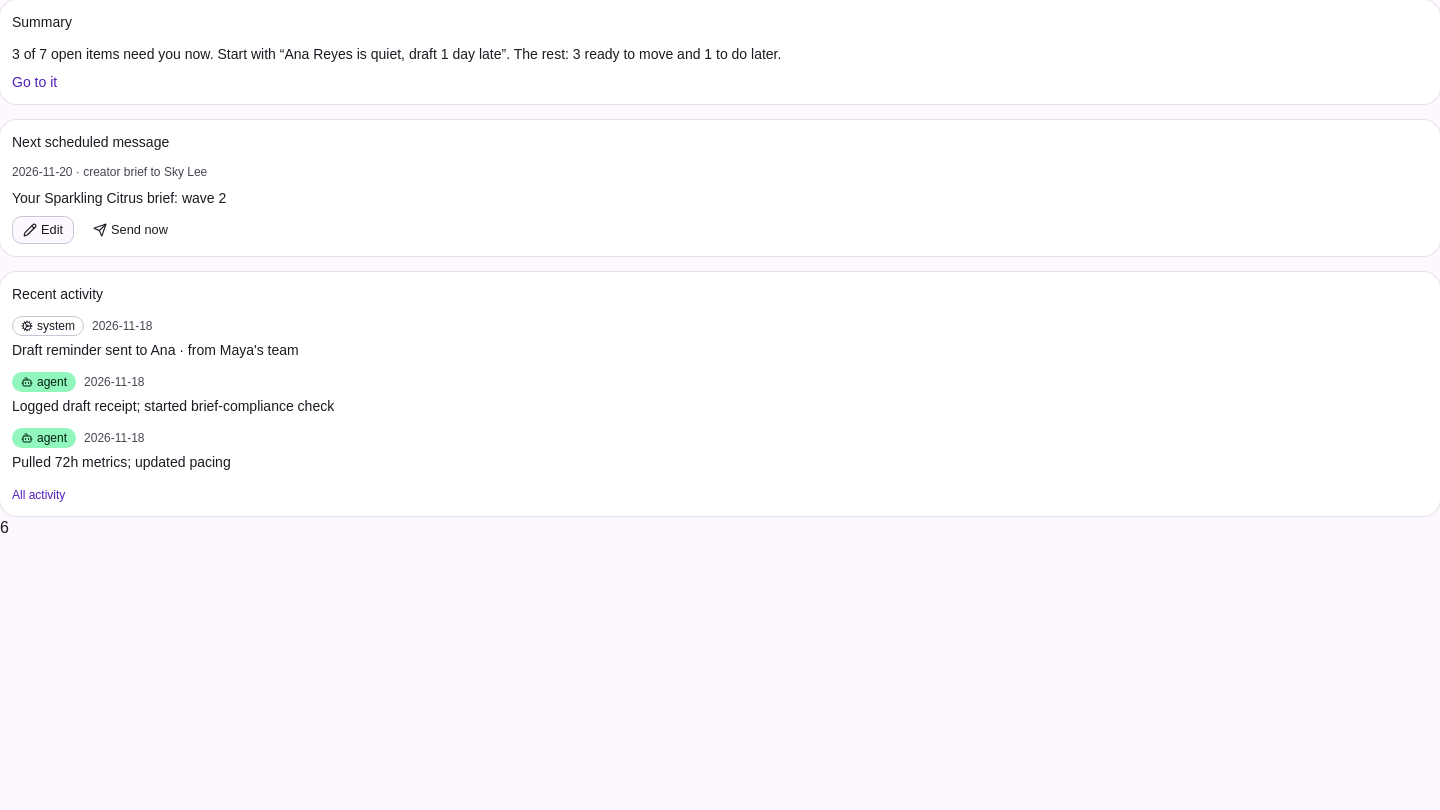
Test: next message: Edit opens the soonest queued message in the draft sheet
Expected: the text "Your Sparkling Citrus brief: wave 2" is shown, [12, 190, 226, 206]
Step 1. Click the button "Edit" → coordinates (43, 230), box [12, 216, 74, 244]
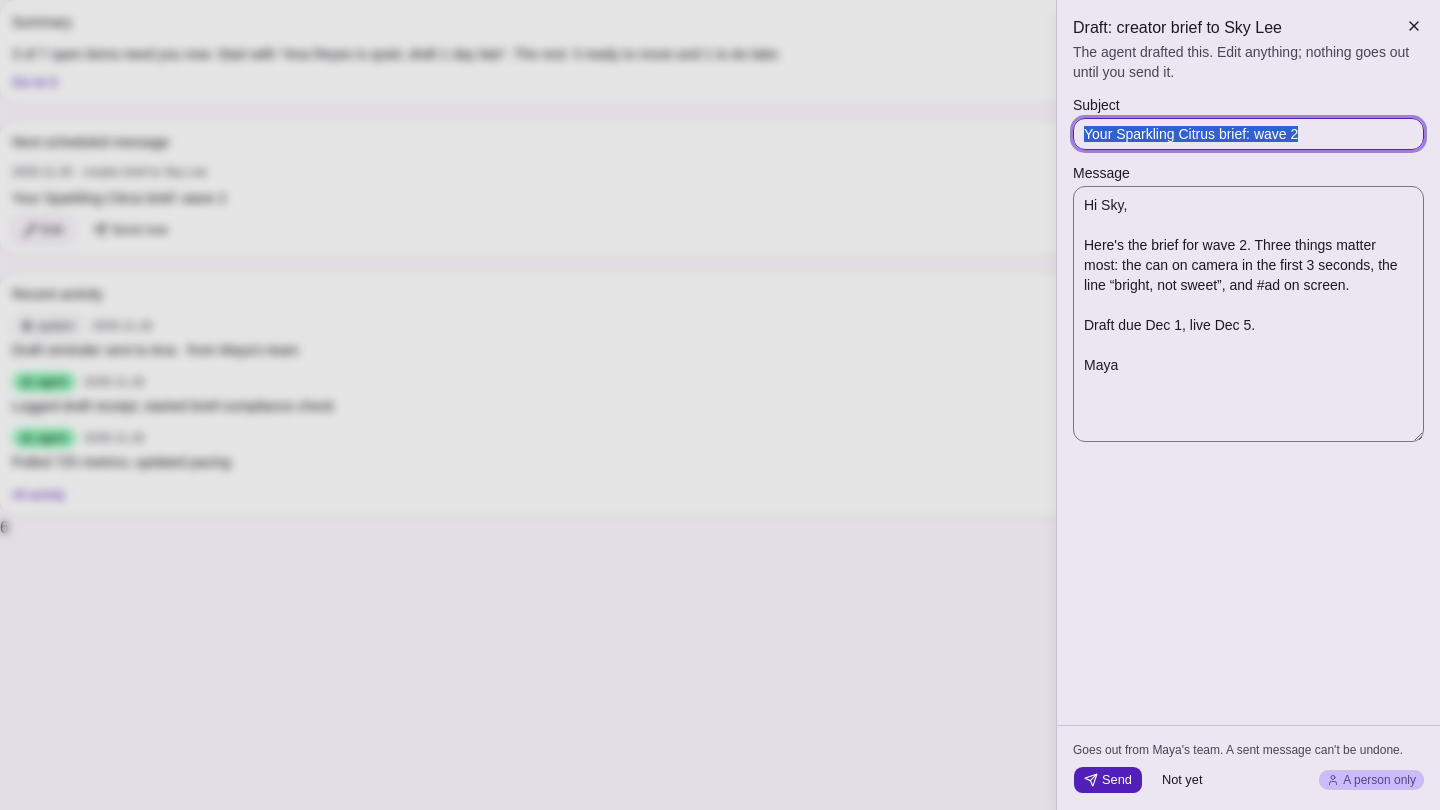
Expected: the dialog "Draft: creator brief to Sky Lee" is shown, [1056, 0, 1439, 809]
